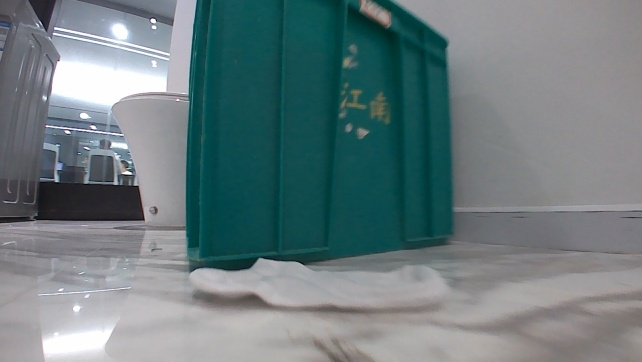socks: (186, 255, 454, 314)
toilet: (108, 87, 190, 230)
washing_machine1: (0, 0, 63, 225)
